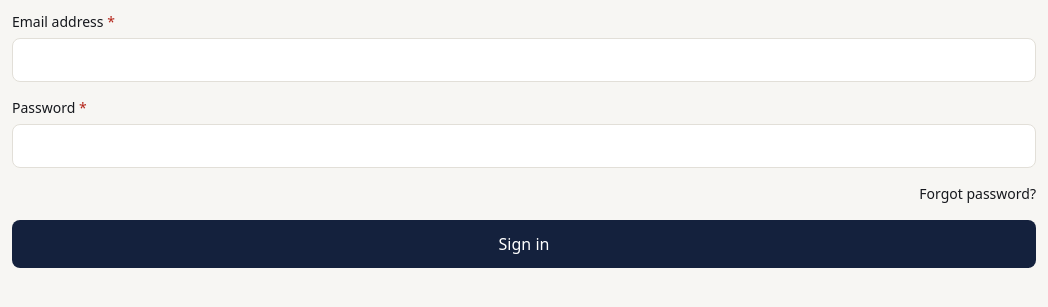
Test case: LoginForm › shows server credential errors on the field
In the field labelled "Email address *": [524, 60] box [12, 38, 1036, 82], type "ada@example.com"
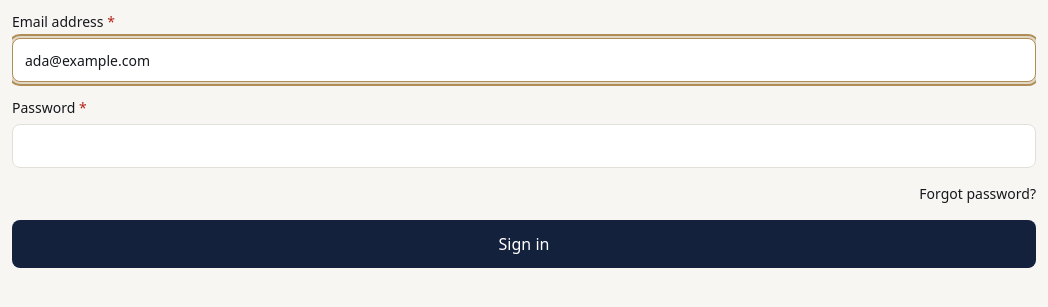
In the password field labelled "Password *": [524, 146] box [12, 124, 1036, 168], type "Secret-Passw0rd!"
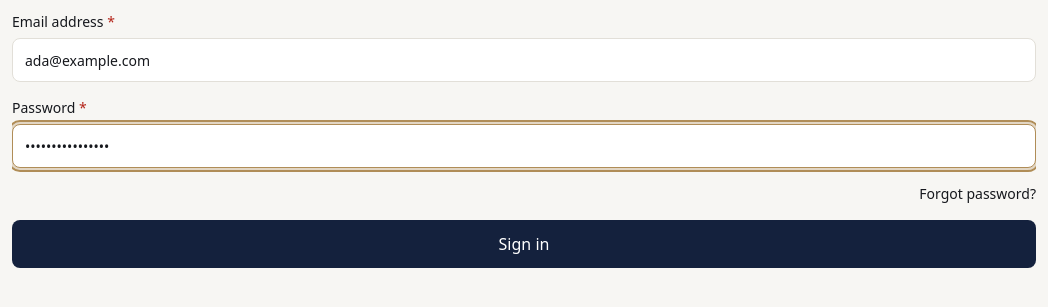
Click the button "Sign in": [524, 244] box [12, 220, 1036, 268]
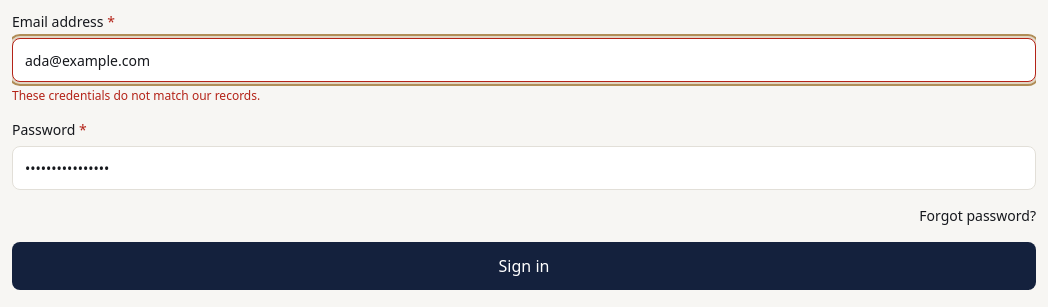
Expected: the text "These credentials do not match our records." is shown, [12, 87, 260, 104]
